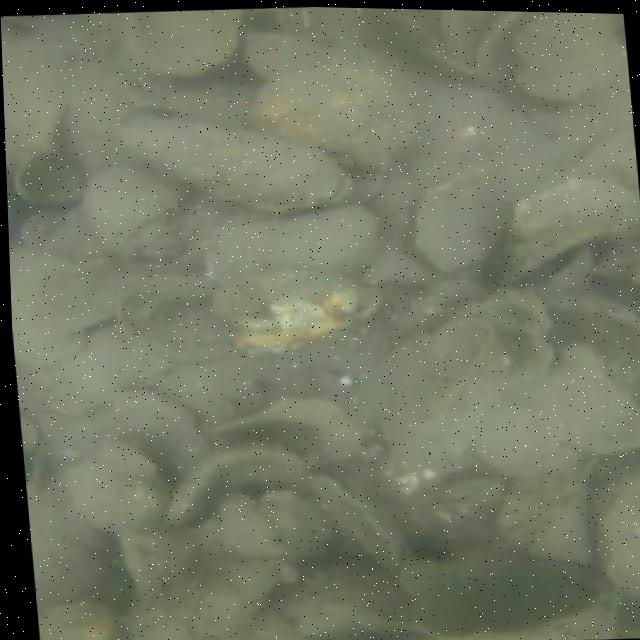Oyster-Closed: (309, 473, 403, 566)
Oyster-Indeterminate: (119, 118, 339, 206), (402, 550, 613, 640), (248, 62, 410, 165), (213, 273, 386, 361), (501, 177, 640, 276), (510, 347, 640, 452), (206, 206, 376, 284), (27, 471, 109, 615), (87, 167, 212, 258), (507, 12, 626, 102), (496, 461, 595, 565), (114, 275, 226, 364), (117, 9, 254, 79), (68, 441, 173, 532), (415, 167, 503, 270), (243, 29, 384, 80), (601, 463, 640, 591), (14, 145, 83, 208), (39, 603, 125, 640)
